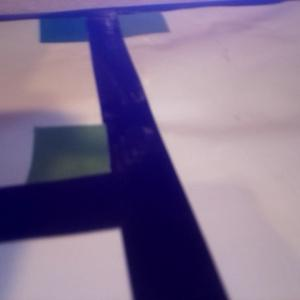bottom_left: (40, 13, 116, 43)
bottom_right: (87, 8, 169, 37)
top_left: (27, 124, 156, 229)
